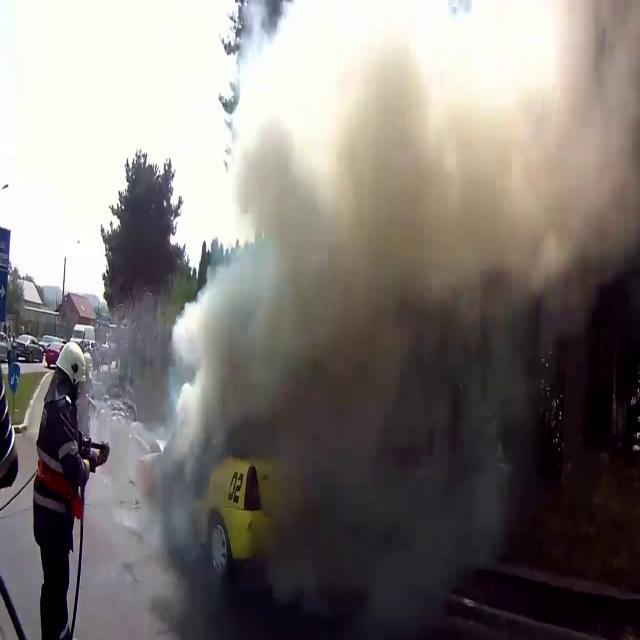Smoke: (136, 0, 640, 529)
